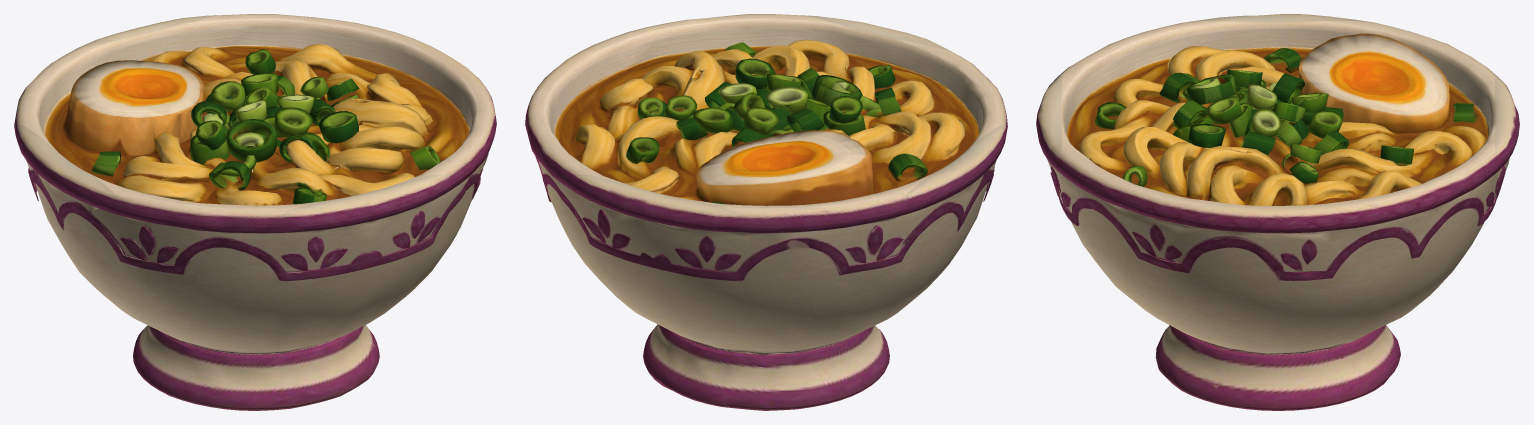
Rendered from SM_NoodleBowl.fbx.
3 renders of one model, left to right at view 1: azimuth 30°, elevation 25°; view 2: azimuth 150°, elevation 25°; view 3: azimuth 270°, elevation 25°, orthographic.
Parts seen in each view (by area): view 1: SM_NoodleBowl; view 2: SM_NoodleBowl; view 3: SM_NoodleBowl.
Part boxes in pixels (x1,y1,x2,y2): SM_NoodleBowl: (14,14,496,410); SM_NoodleBowl: (525,14,1007,410); SM_NoodleBowl: (1036,14,1519,410).
Size of the model in its own units: 29.83 by 30 by 18.13.
Materials: 1 (1 with a texture image).
